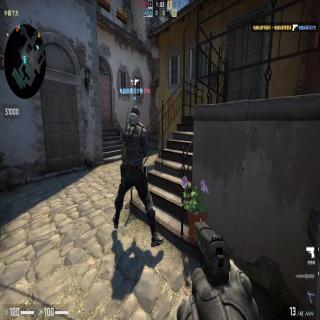CT-Body: (112, 104, 164, 247)
CT-Head: (127, 105, 141, 123)
